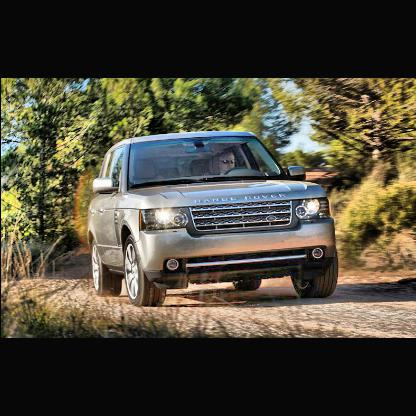Land Rover Range Rover SUV 2012: (87, 131, 340, 307)
